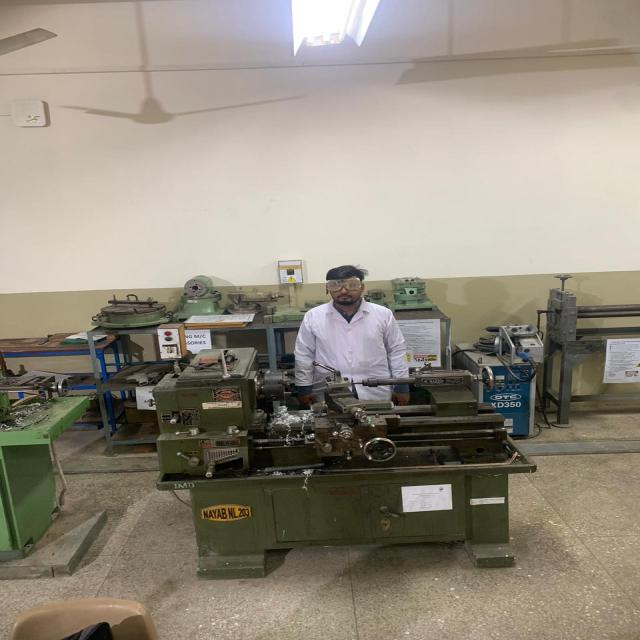googles: (323, 277, 365, 294)
labcoat: (292, 295, 412, 403)
